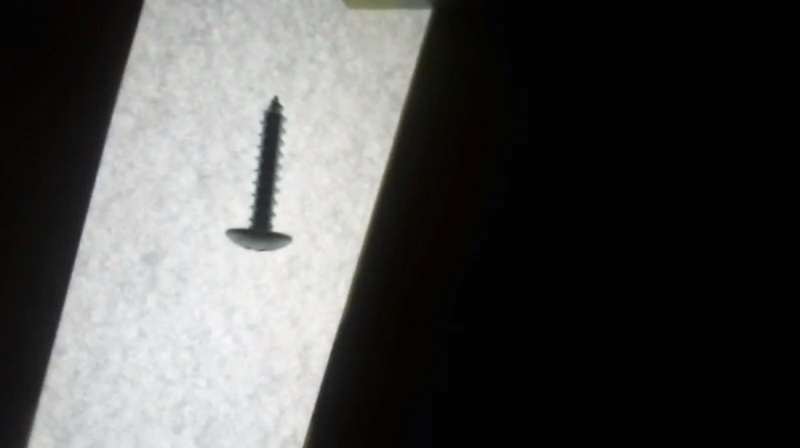S003: (221, 91, 296, 254)
